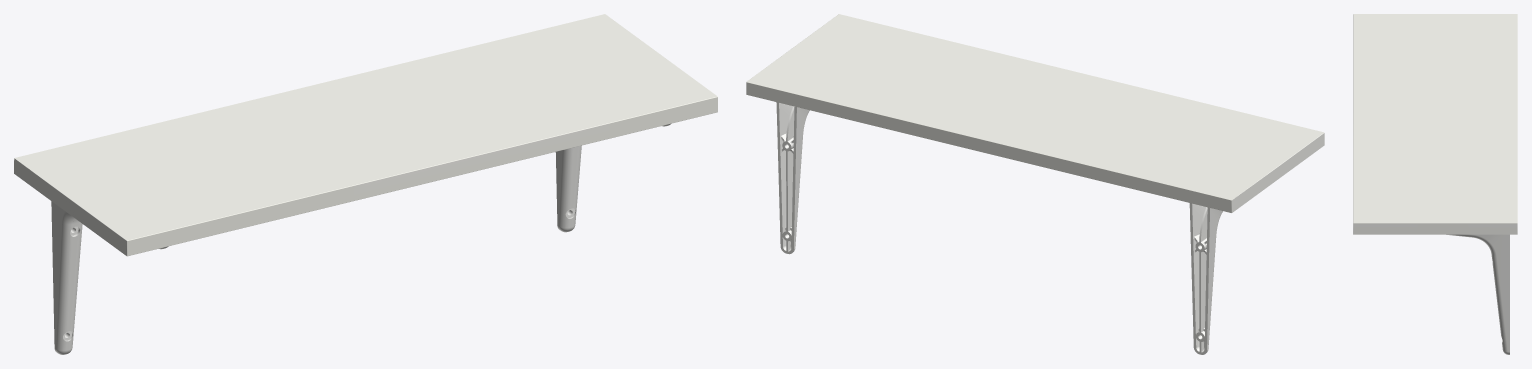
The model's file is burhult_sibbhult_poka_scienna_89325963.glb.
The picture shows the model from 3 angles, left to right: view 1: azimuth 30°, elevation 25°; view 2: azimuth 150°, elevation 25°; view 3: azimuth 270°, elevation 25°; orthographic projection. The views are drawn at different scales.
Visible parts, largest first — view 1: burhult_sibbhult_poka_scienna_89325963; view 2: burhult_sibbhult_poka_scienna_89325963; view 3: burhult_sibbhult_poka_scienna_89325963.
Part boxes in pixels (<box>): burhult_sibbhult_poka_scienna_89325963: <box>14,14,717,354</box>; burhult_sibbhult_poka_scienna_89325963: <box>746,14,1324,354</box>; burhult_sibbhult_poka_scienna_89325963: <box>1353,14,1517,354</box>.
Bounding box in the file's own units: 0.588 × 0.192 × 0.195.
3 materials, 1 textured.
